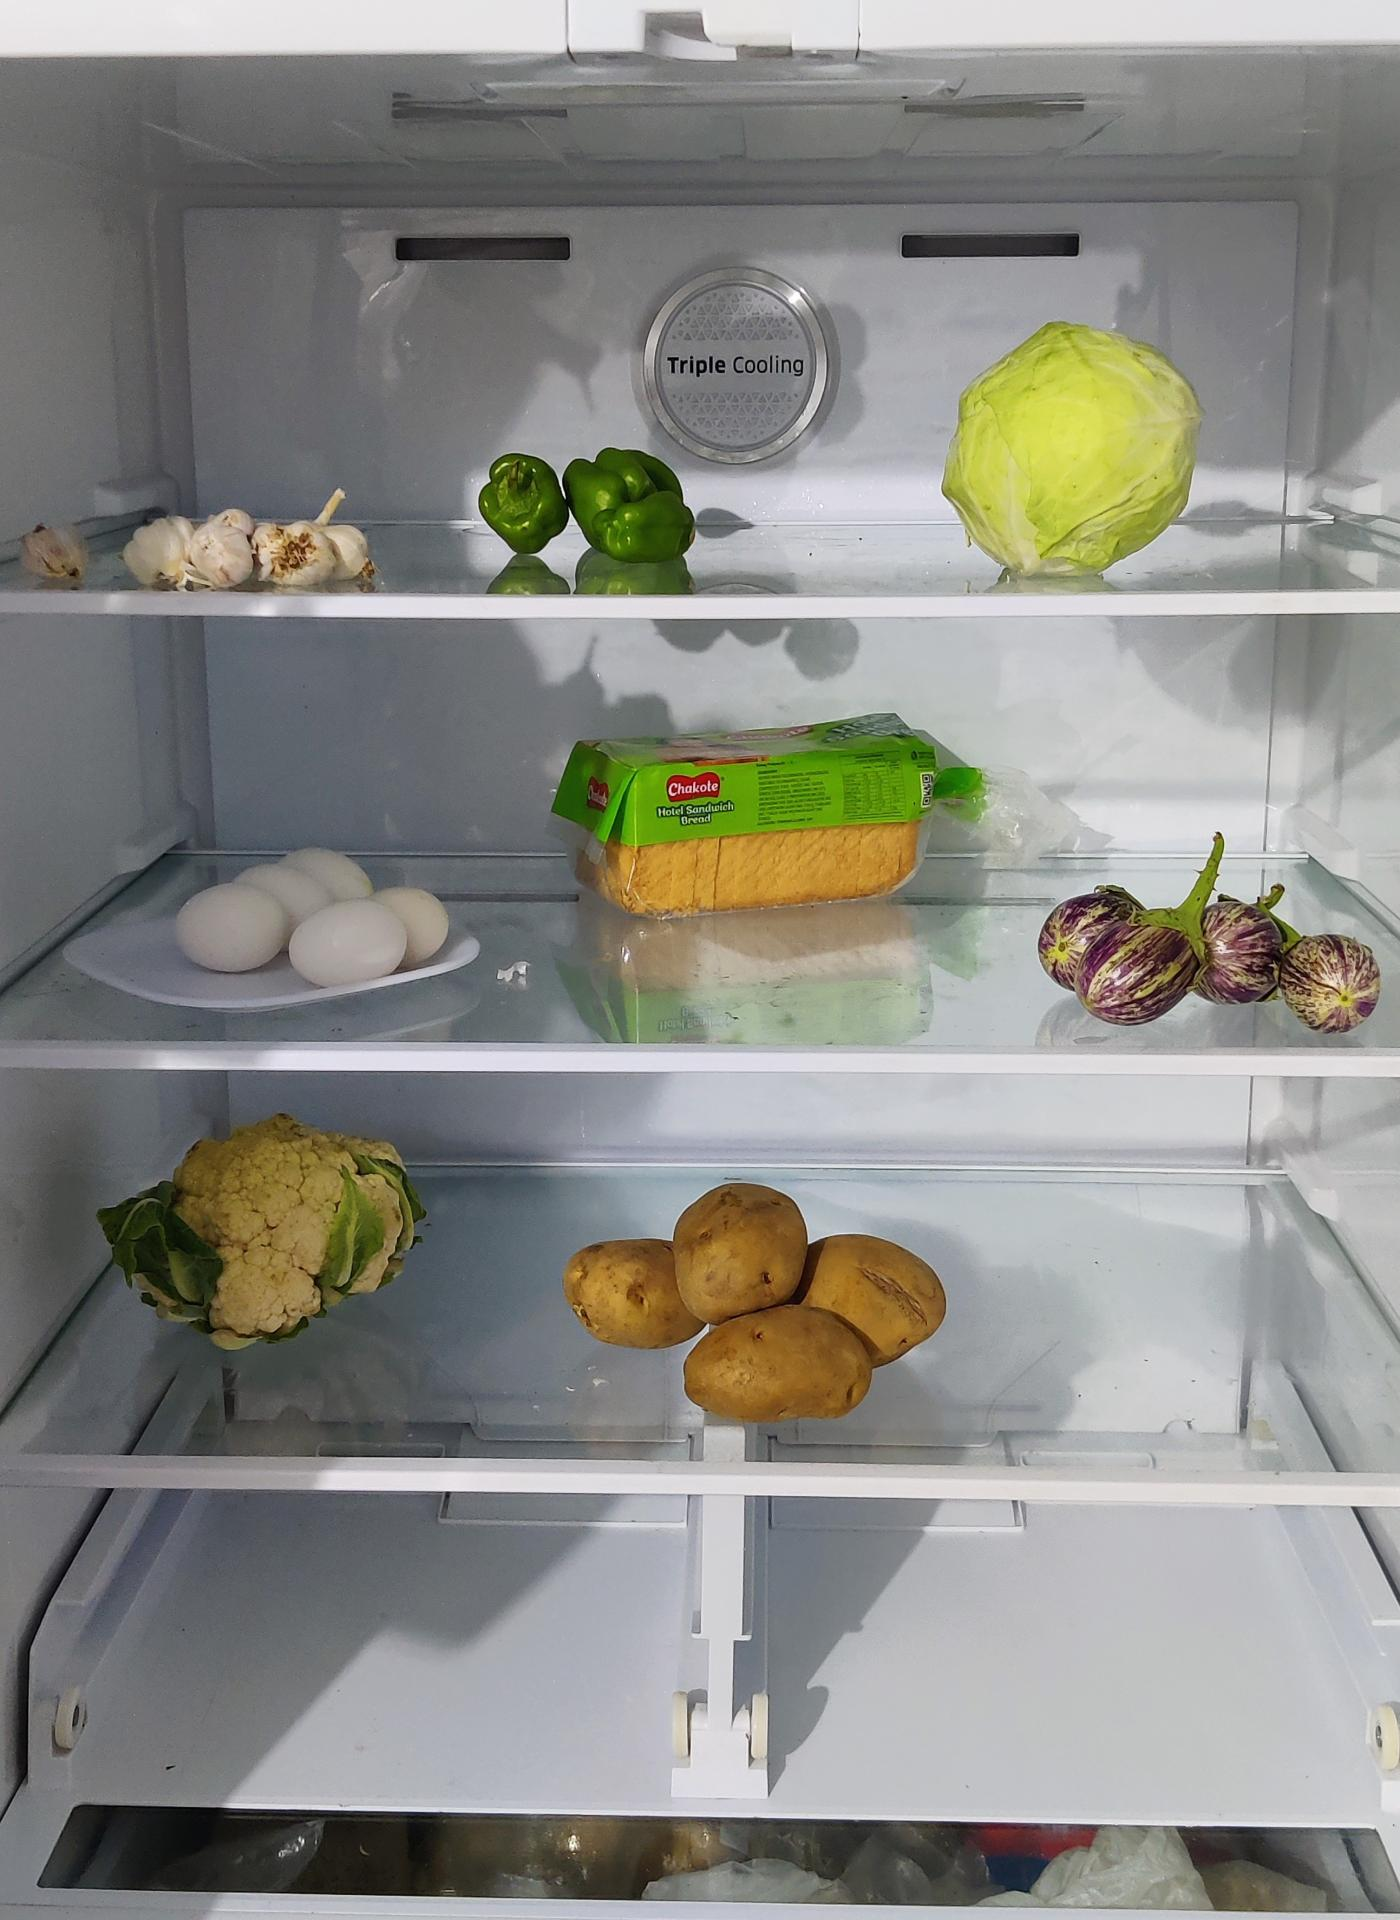bread: (556, 714, 944, 918)
brinjal: (1030, 875, 1375, 1039)
cabbage: (938, 320, 1200, 575)
capsicum: (483, 440, 707, 566)
cauliflower: (116, 1117, 425, 1346)
egg: (182, 838, 461, 988)
garlic: (122, 490, 380, 593)
potato: (564, 1181, 959, 1430)
